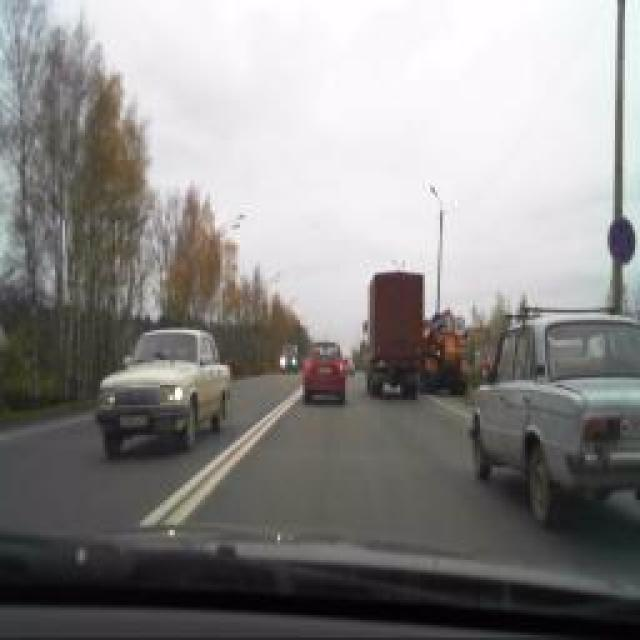sign: (606, 212, 636, 270), (454, 316, 466, 339)
